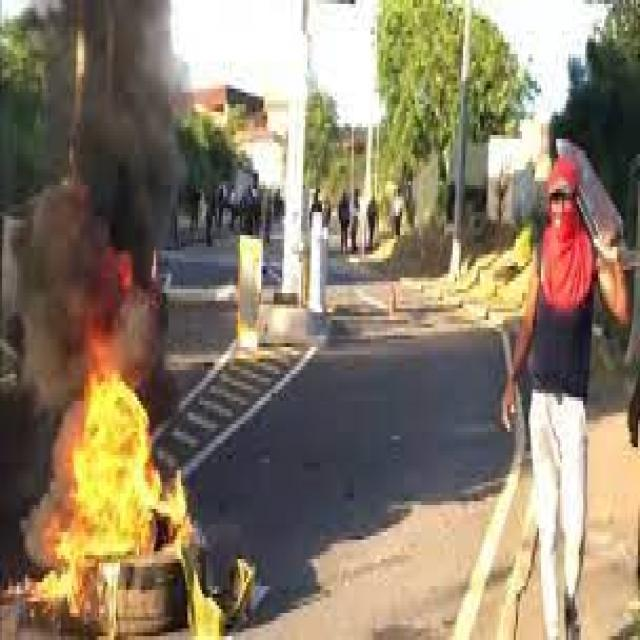Fire: (31, 363, 197, 562), (86, 248, 146, 364), (24, 560, 116, 618), (190, 571, 222, 638), (232, 557, 256, 606), (238, 316, 257, 354), (150, 247, 158, 284)
Smoke: (59, 0, 183, 251), (20, 196, 85, 364), (124, 288, 171, 365)
